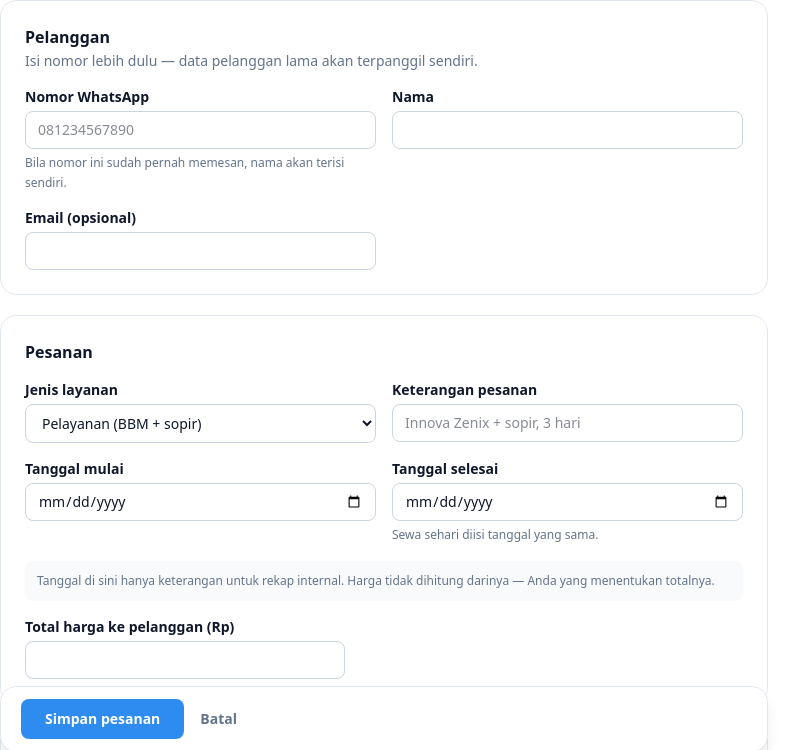
ManualBookingForm — biaya operasional › memperingatkan saat biayanya melampaui harga ke pelanggan
The width and height of the screenshot is (785, 750).
In the number field labelled "Total harga ke pelanggan (Rp)": coordinates (185, 660) 25,640 -> 345,678, type "500000"
(page scrolled)
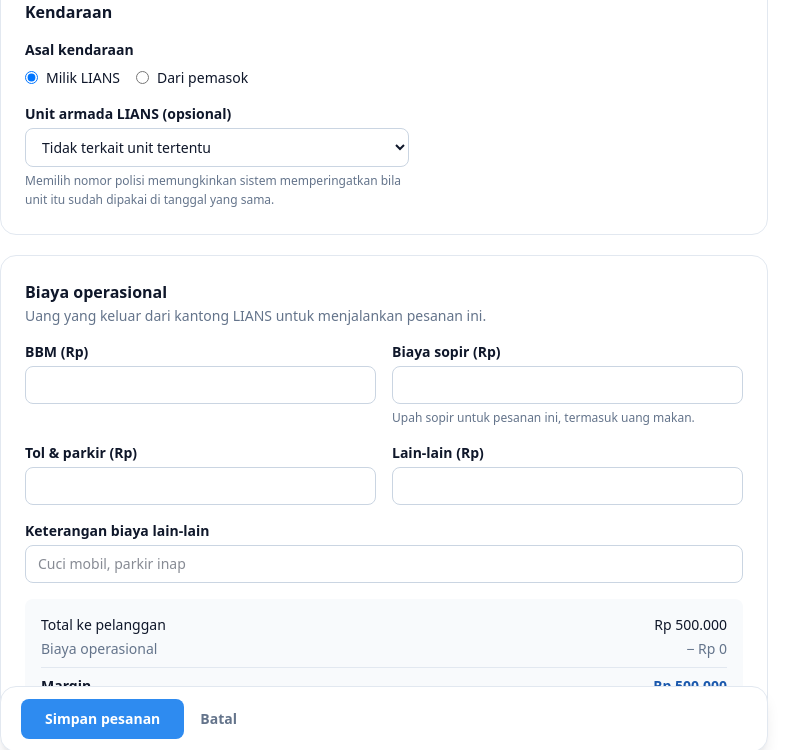
In the number field labelled "BBM (Rp)": coordinates (200, 384) 25,366 -> 376,404, type "800000"
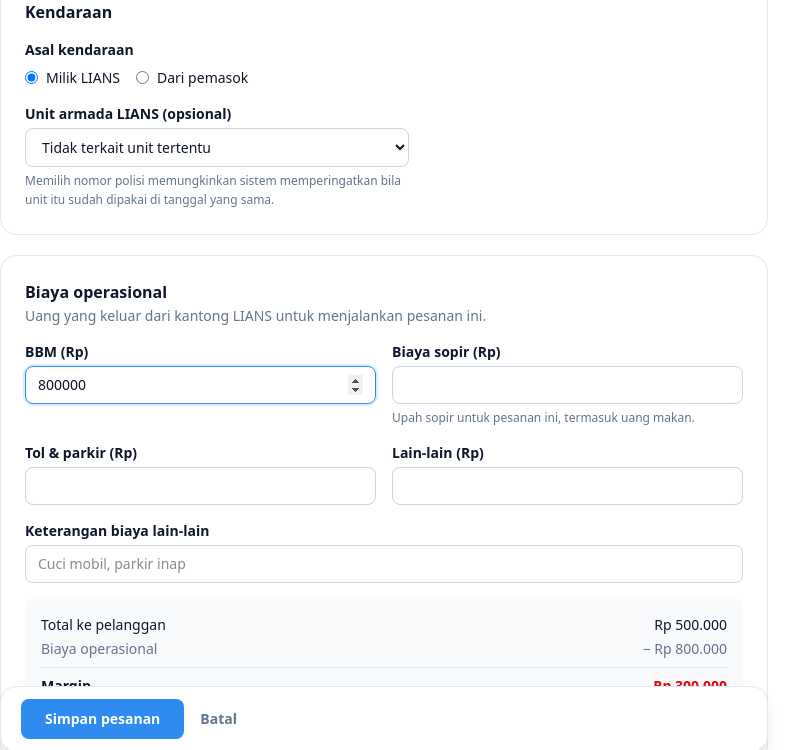
Check: the text with test id "margin" reads "-Rp 300.000", box 649,676 -> 727,695
